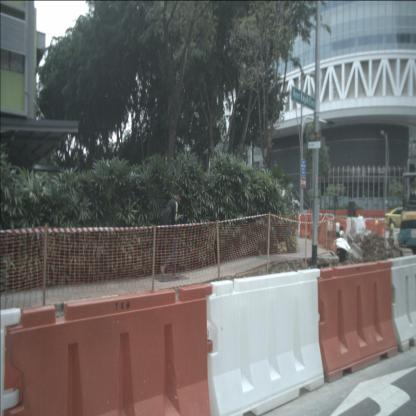barrier: (7, 283, 214, 415), (206, 270, 326, 416), (316, 260, 401, 383), (388, 254, 416, 354)
